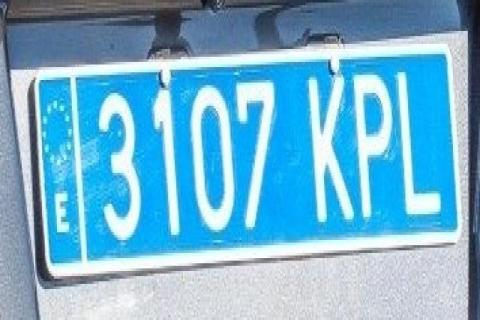LicensePlate: (20, 27, 469, 307)
